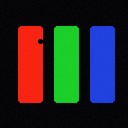0 point: (38, 39, 42, 43)
